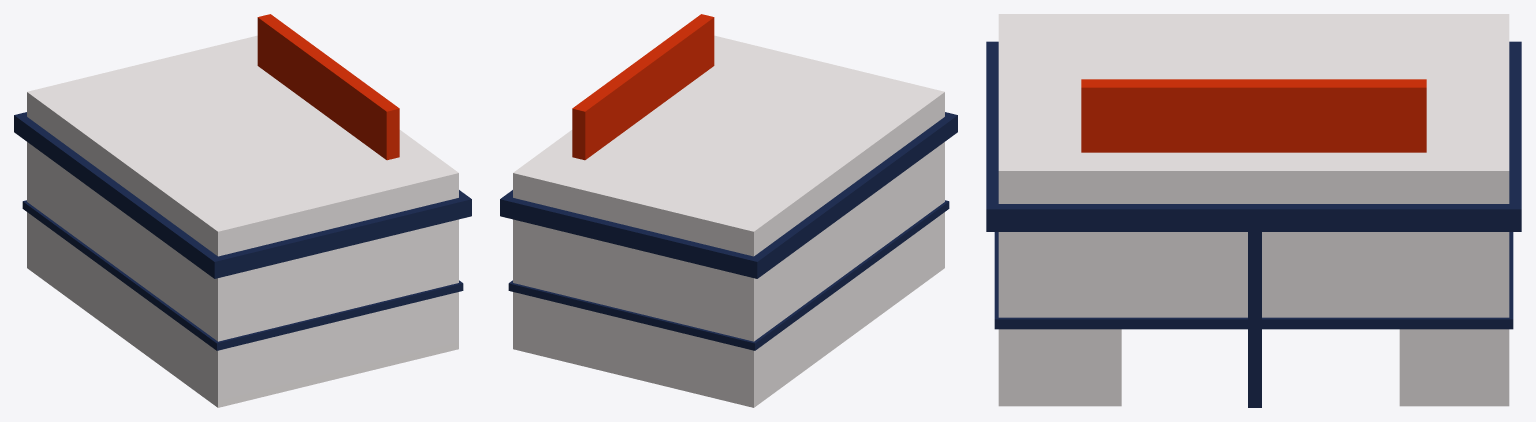
File: Shop.fbx
The picture shows the model from 3 angles, left to right: view 1: azimuth 30°, elevation 25°; view 2: azimuth 150°, elevation 25°; view 3: azimuth 270°, elevation 25°; orthographic projection. The views are drawn at different scales.
Visible parts, largest first — view 1: Shop; view 2: Shop; view 3: Shop.
Part boxes in pixels (box(x1,y1,x2,y2)): Shop: box(14, 14, 471, 407); Shop: box(500, 14, 957, 407); Shop: box(986, 14, 1521, 407).
Bounding box in the file's own units: 2.75 × 2.3 × 3.71.
